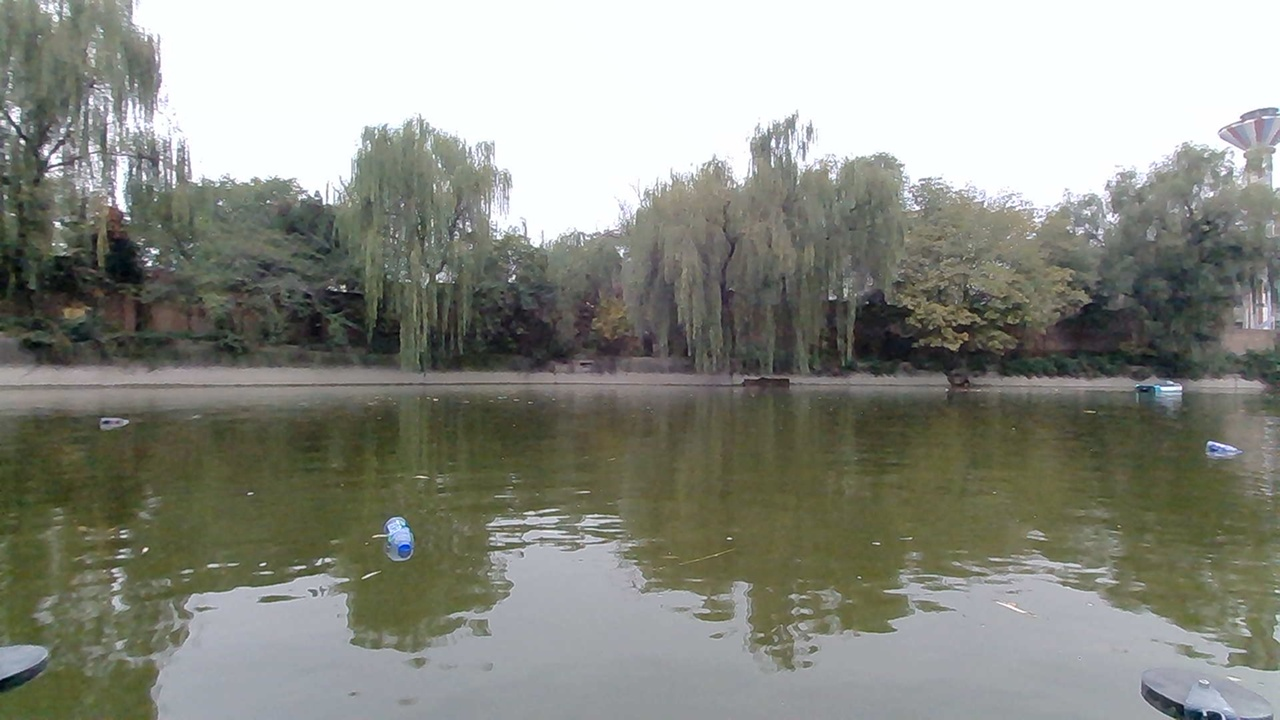bottle: (376, 520, 426, 557), (1201, 435, 1246, 469), (99, 397, 131, 431)
